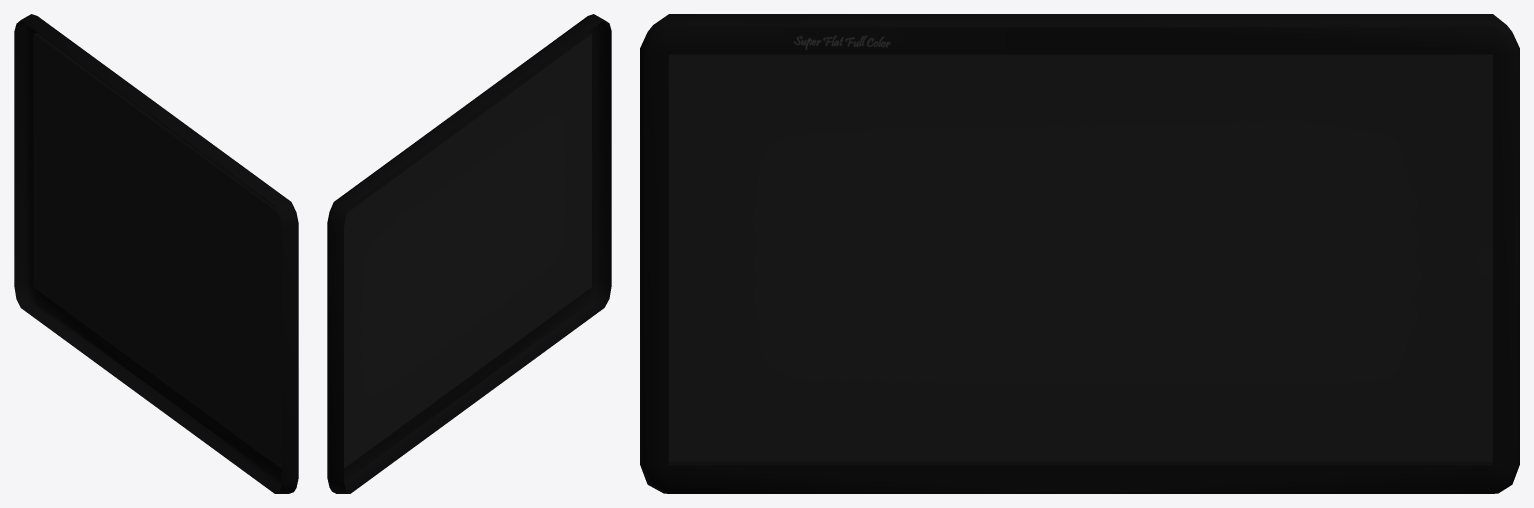
The picture shows the model from 3 angles, left to right: view 1: azimuth 30°, elevation 25°; view 2: azimuth 150°, elevation 25°; view 3: azimuth 270°, elevation 25°; orthographic projection. The views are drawn at different scales.
Visible parts, largest first — view 1: TV; view 2: TV; view 3: TV.
Part boxes in pixels (left/top/right/bottom): TV: left=14, top=14, right=298, bottom=493; TV: left=327, top=14, right=611, bottom=493; TV: left=640, top=14, right=1519, bottom=493.
Size of the model in its own units: 0.0724 by 1.21 by 2.04.
